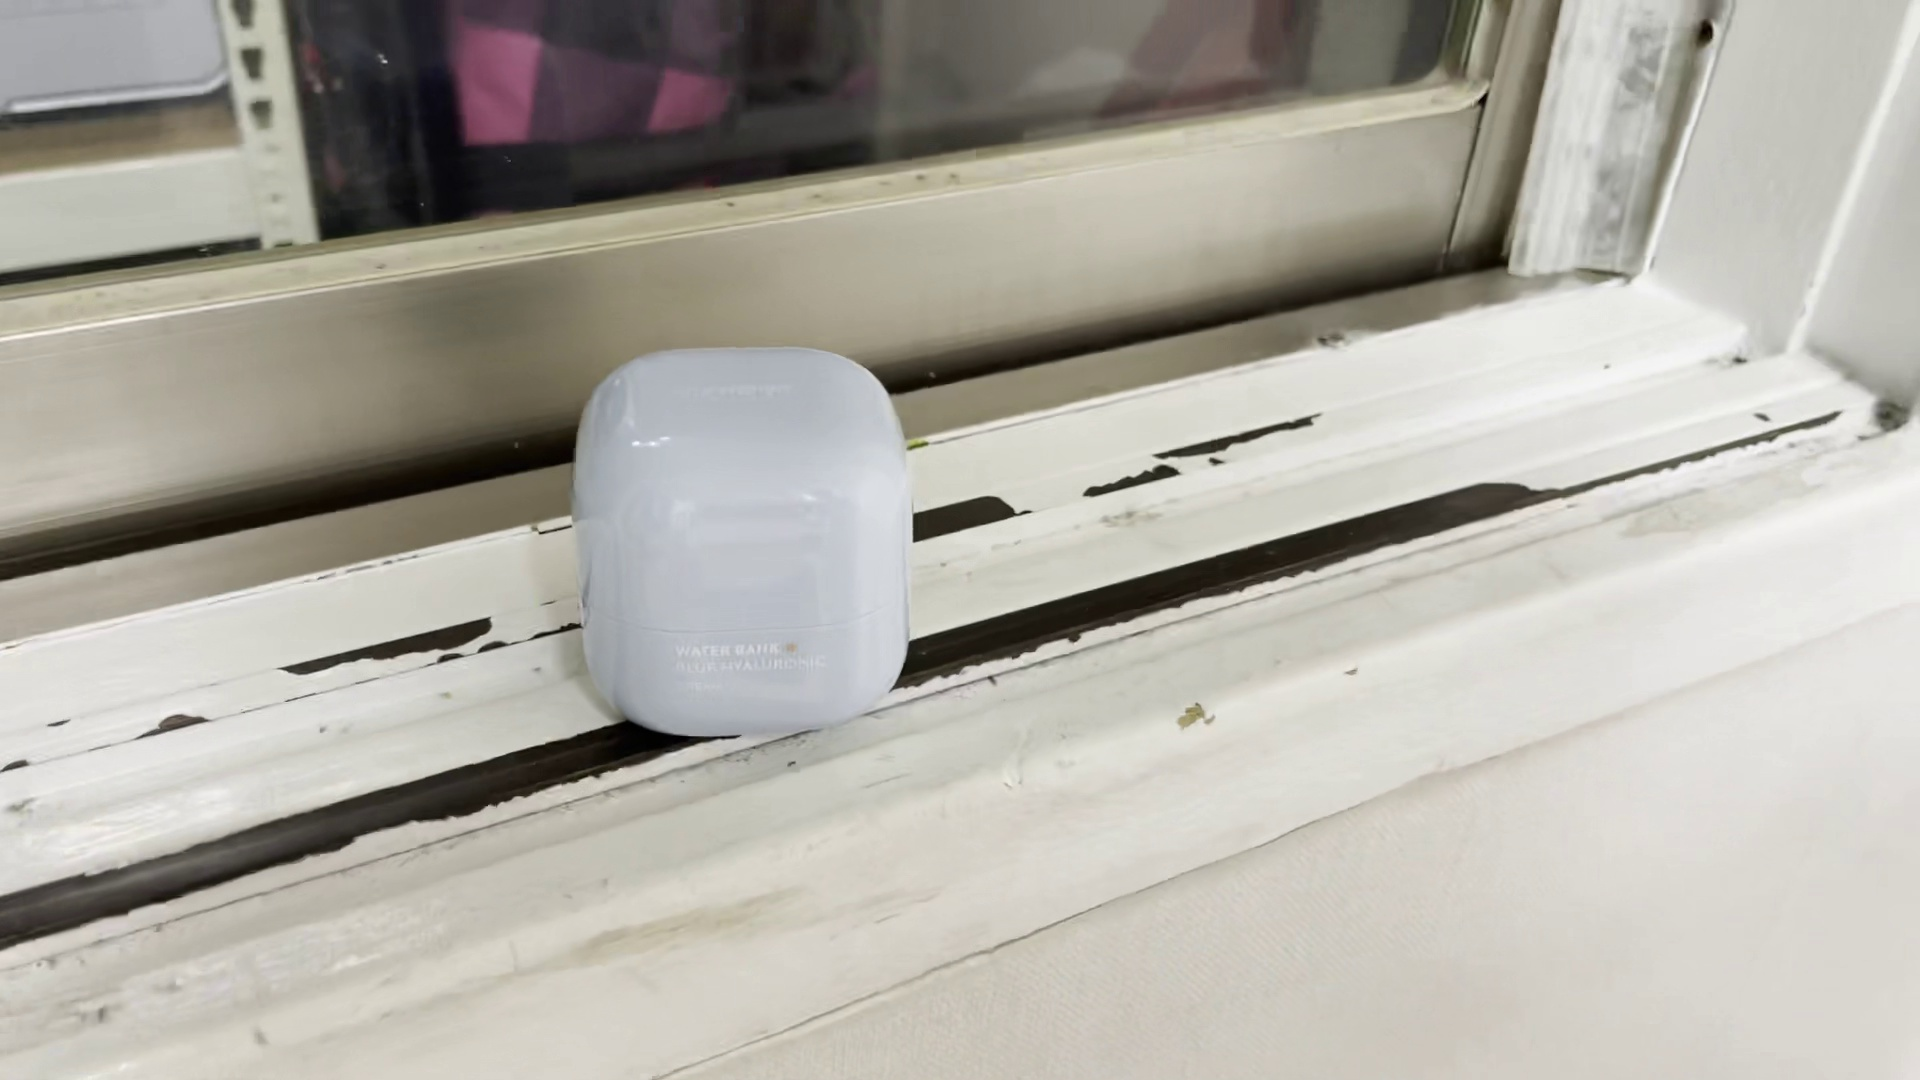cream: (579, 352, 913, 729)
